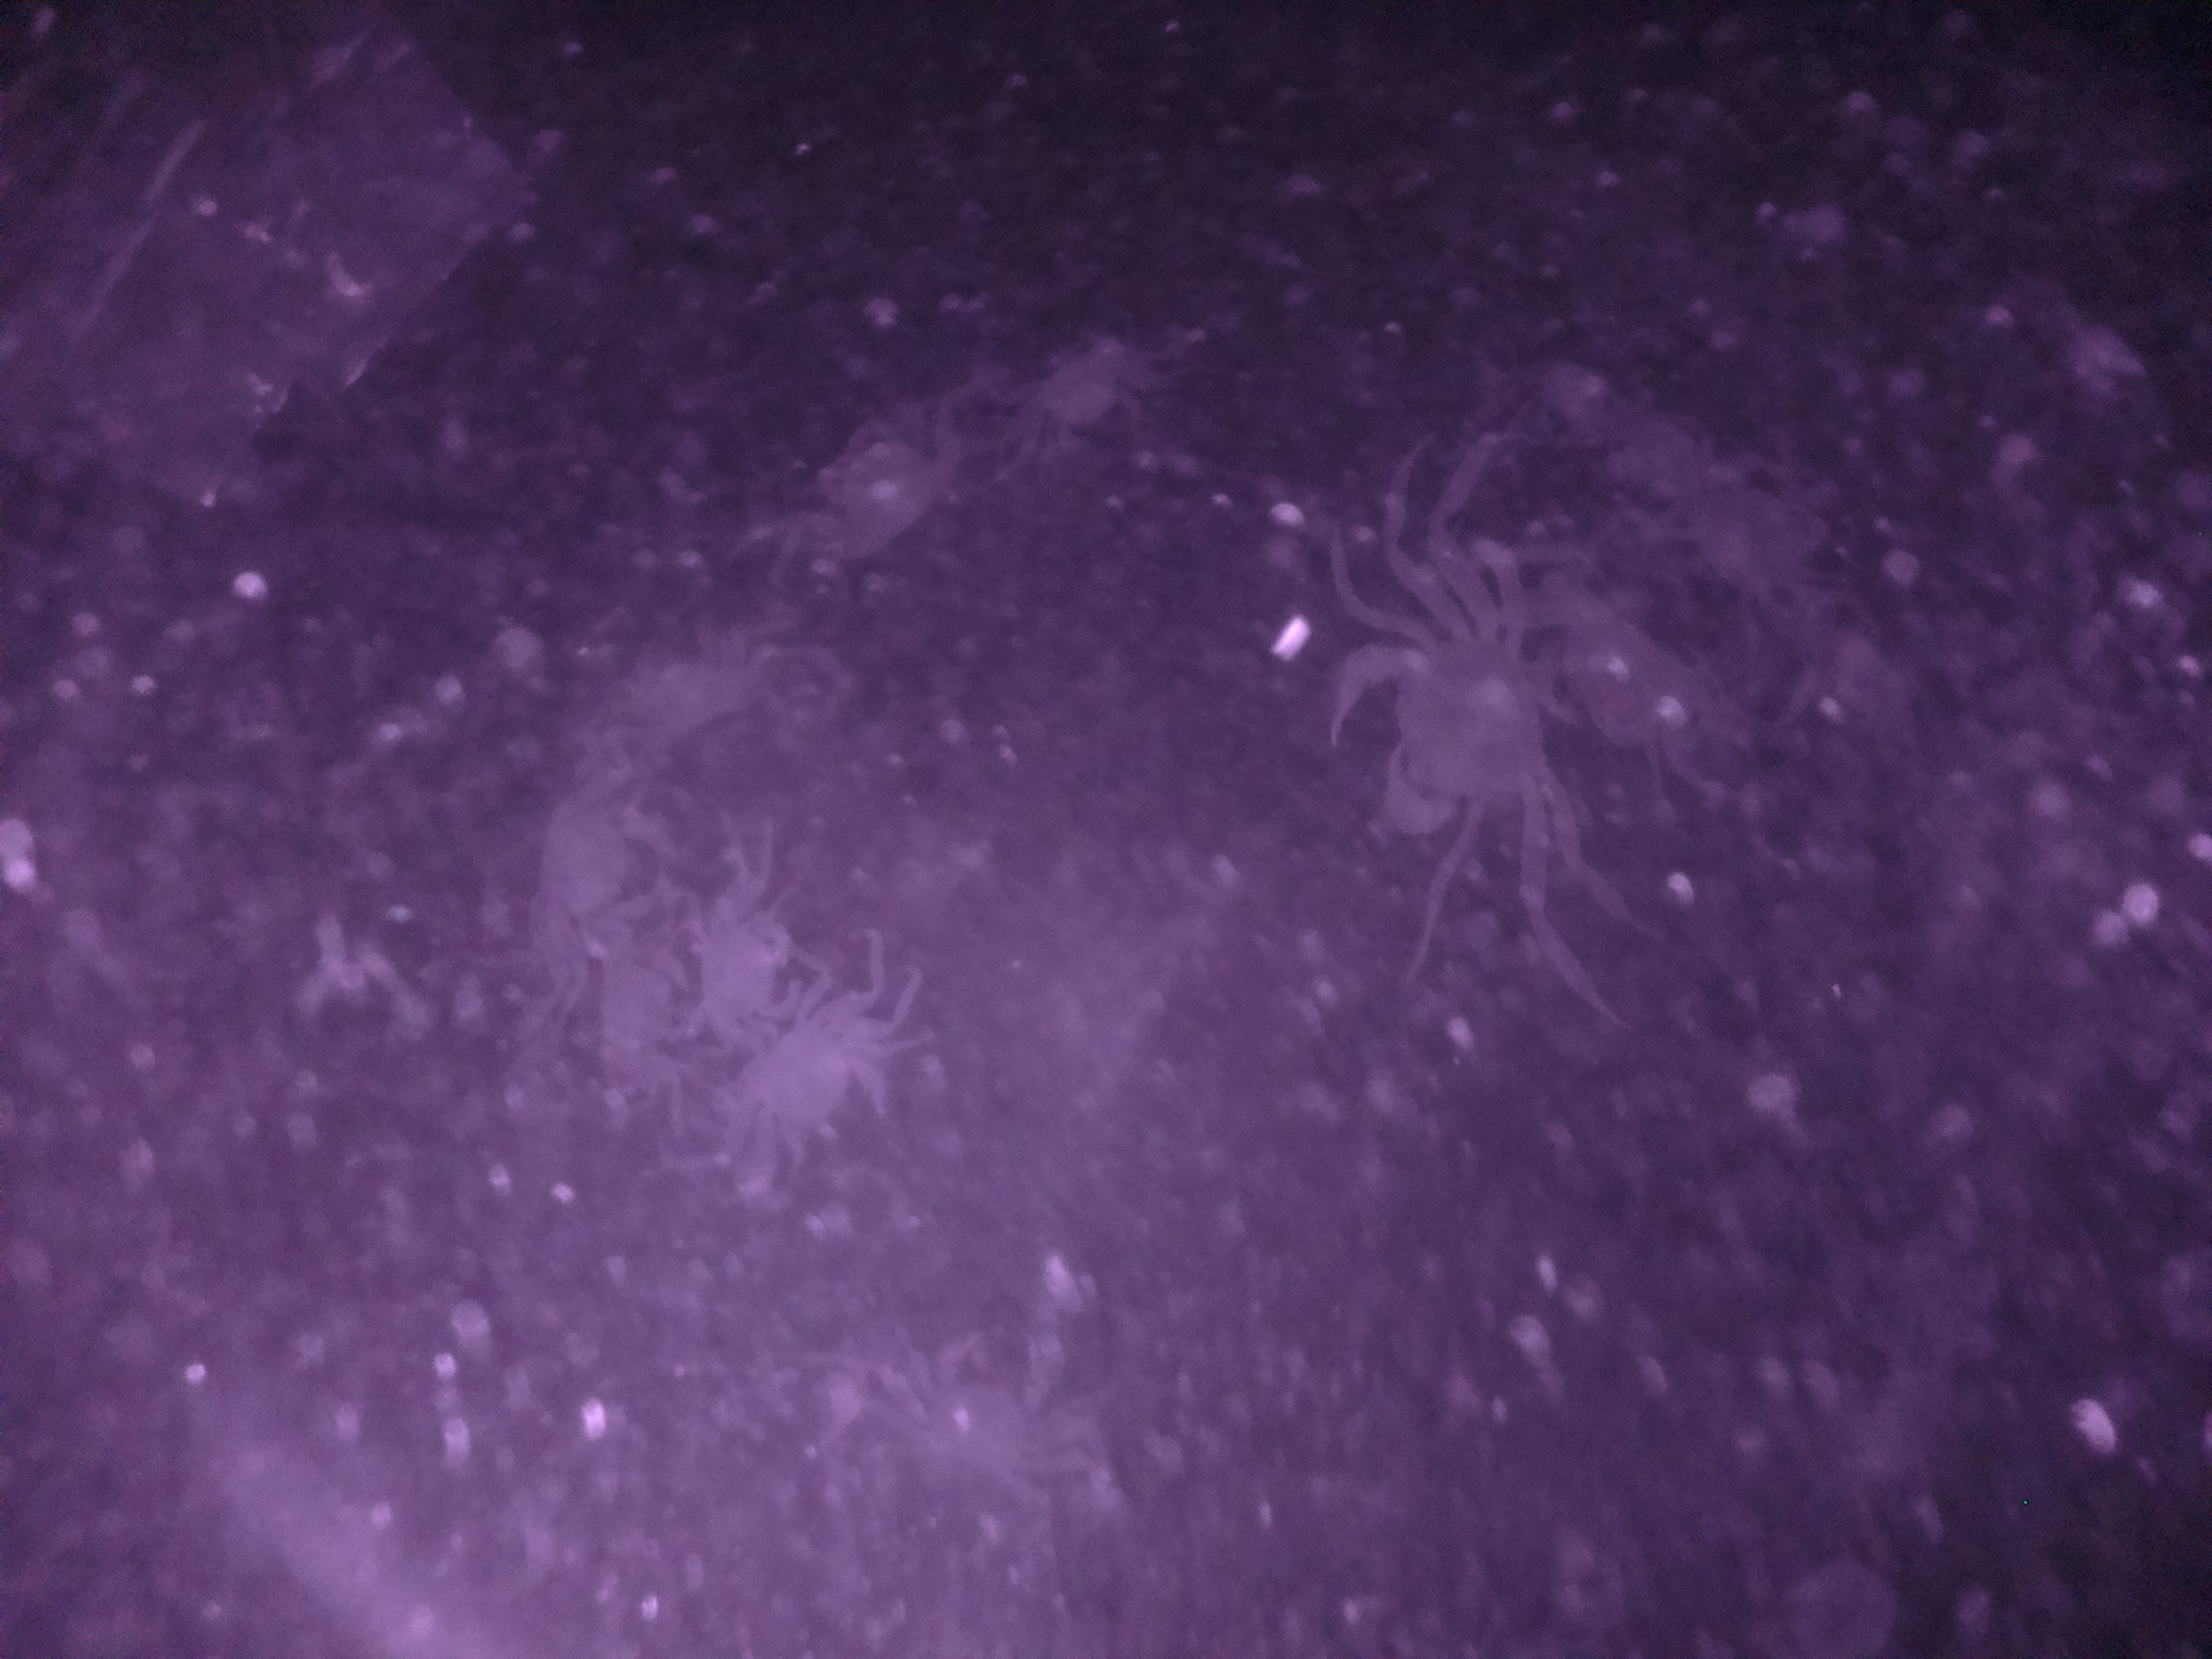Crab: (1322, 579, 1571, 885), (705, 941, 934, 1183)
